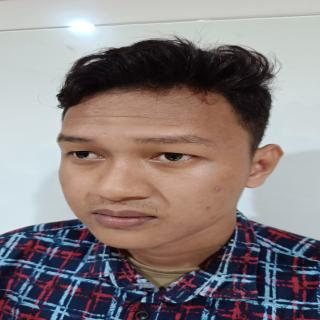Takut: (51, 87, 253, 257)
